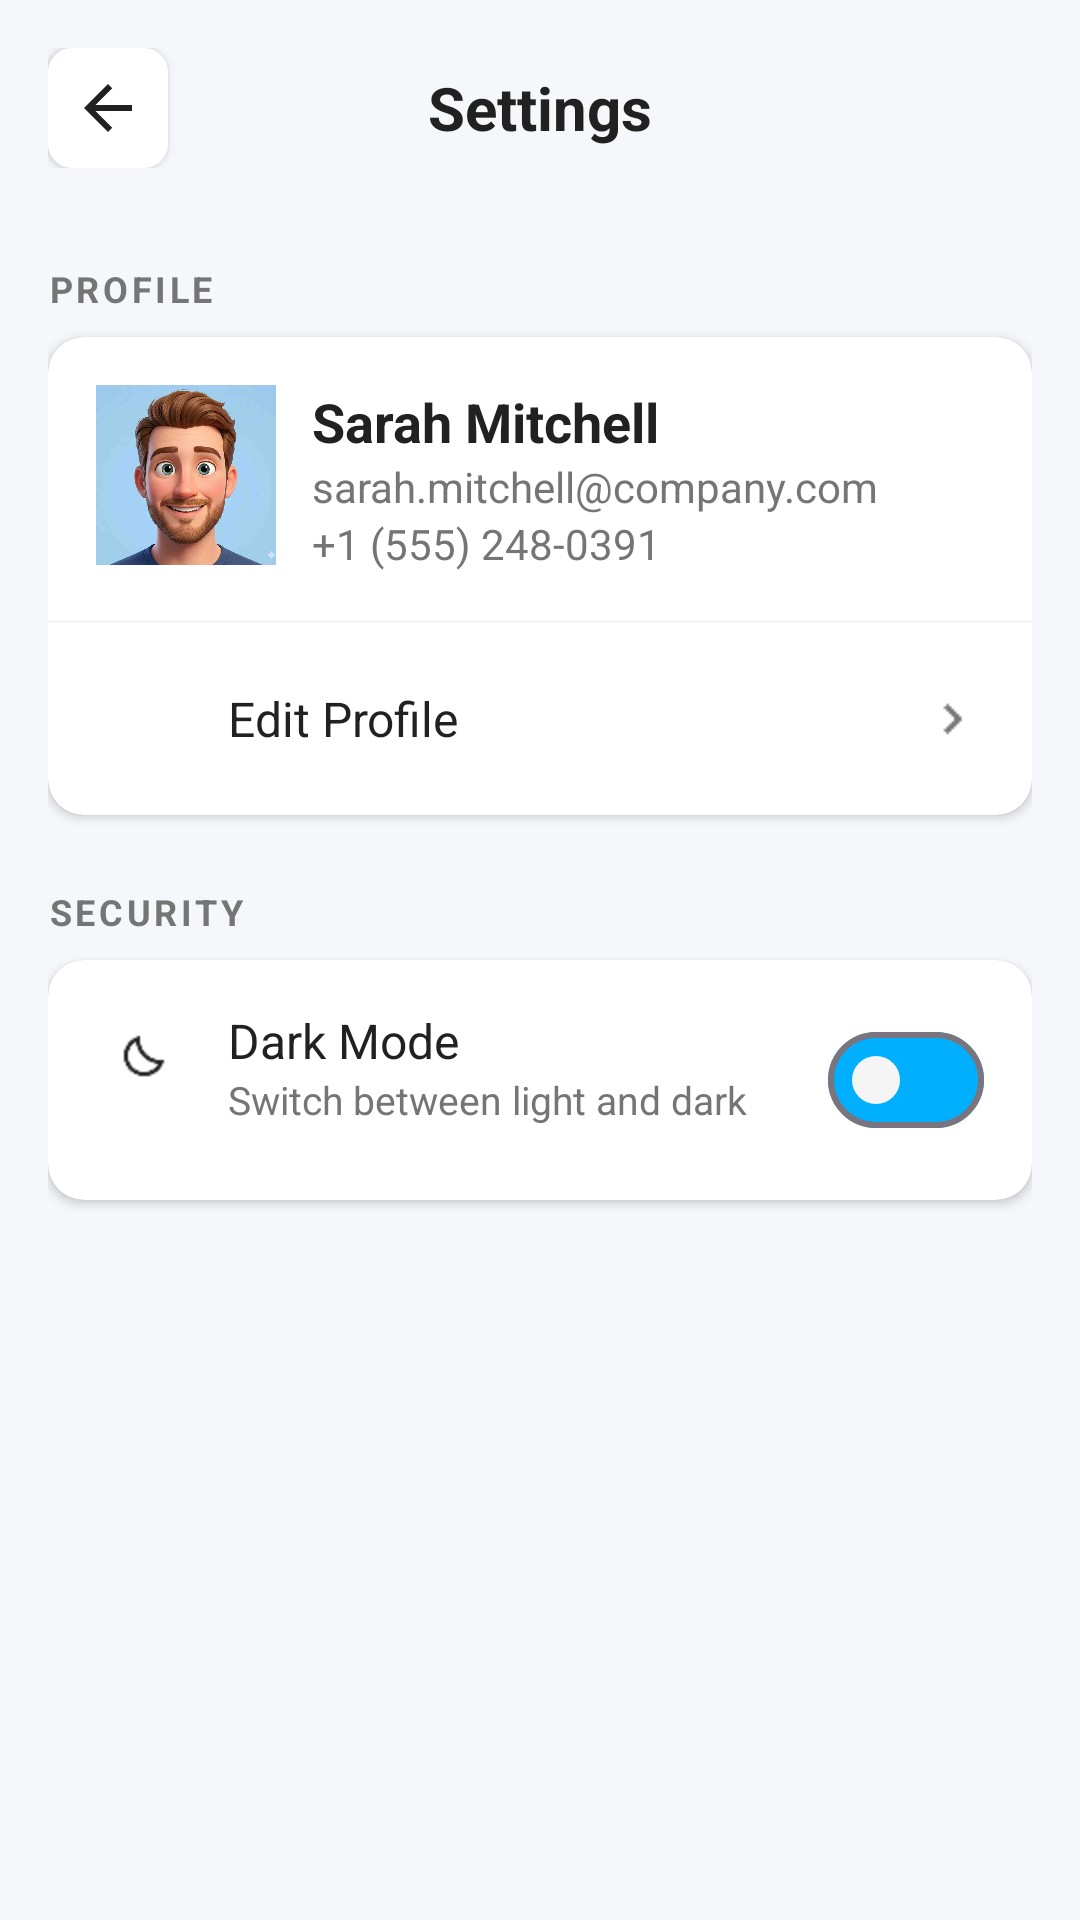

Icon bounding boxes for this 1080px x 1920px phone screenshot, format (x1, y1, x2, y2):
arrow back: (48, 48, 168, 168)
chevron: (943, 703, 962, 735)
face: (96, 385, 276, 565)
